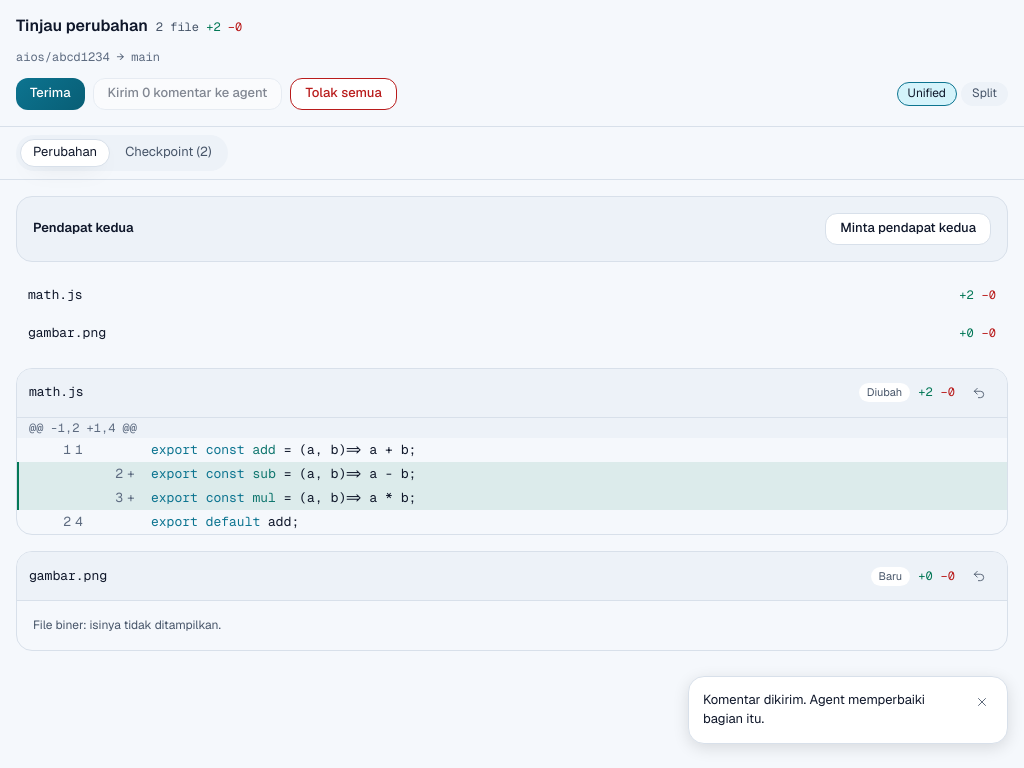
it: Tinjau perubahan: komentar per baris › komentar bisa diubah dan dihapus sebelum dikirim; komentar kosong tidak bisa disimpan
Expected: the heading "Tinjau perubahan" is shown, [16,16,148,37]
Expected: the element "math.js" is shown, [16,368,1008,535]
Click the button "2" at (99, 474), box [75,462,123,486]
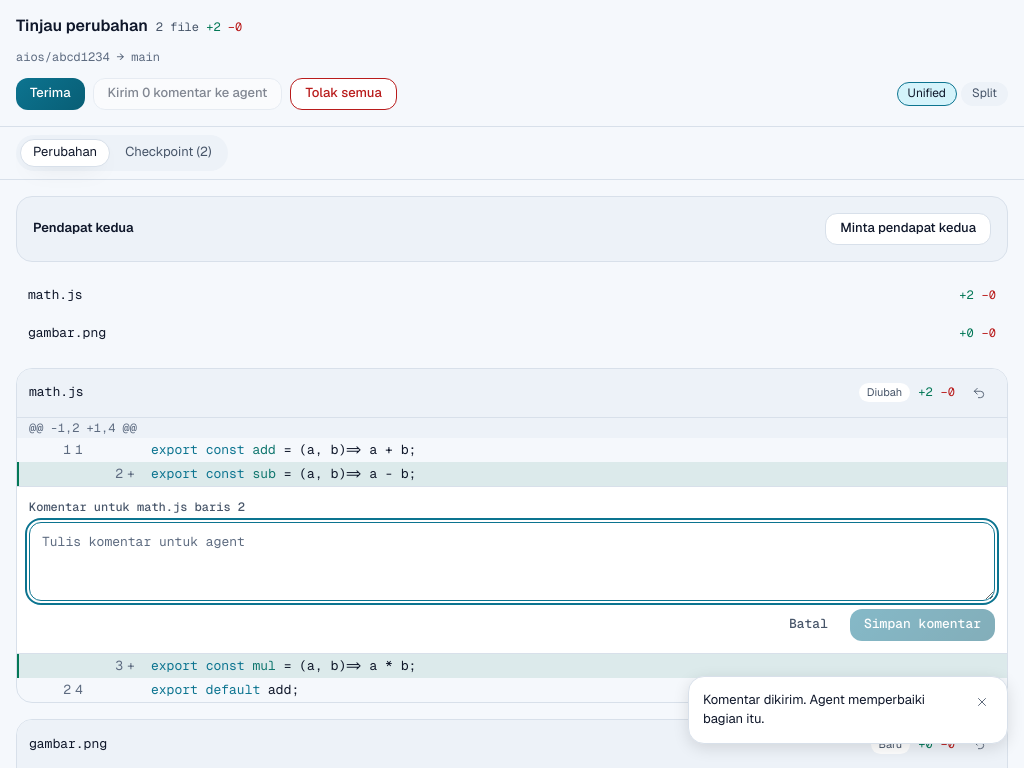
Expected: the button "Simpan komentar" is disabled, [850,609,995,641]
Type "satu" into the text box labelled "Komentar untuk math.js baris 2" at (512, 561), box [29,522,995,601]
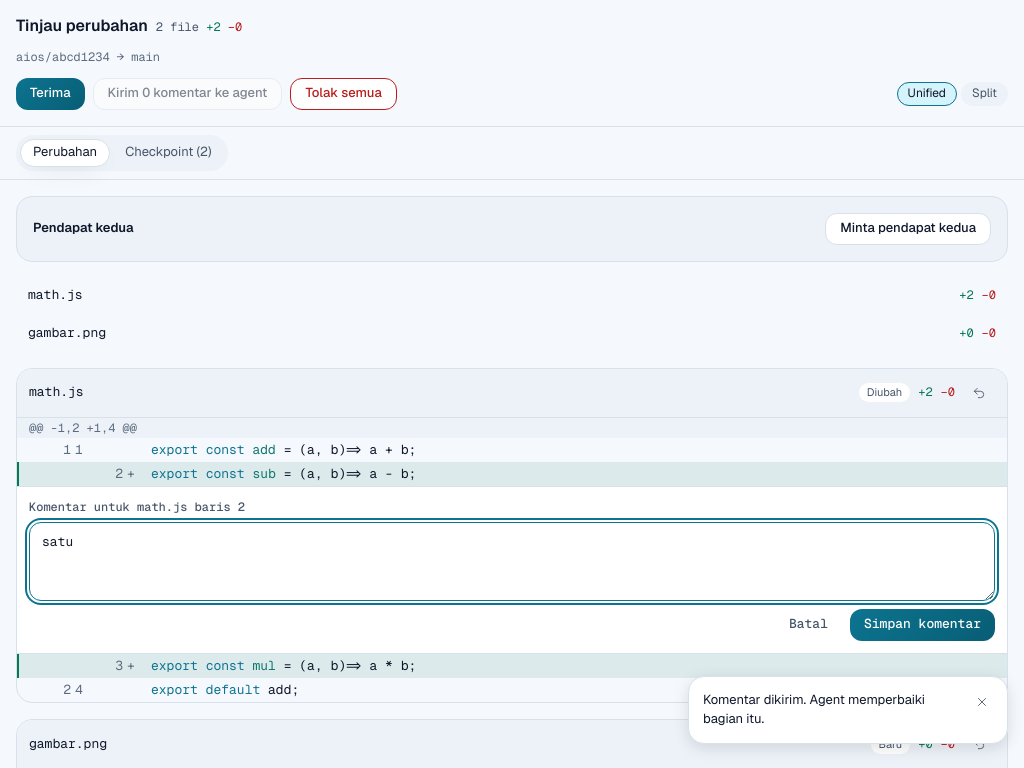
Click the button "Simpan komentar" at (922, 625), box [850,609,995,641]
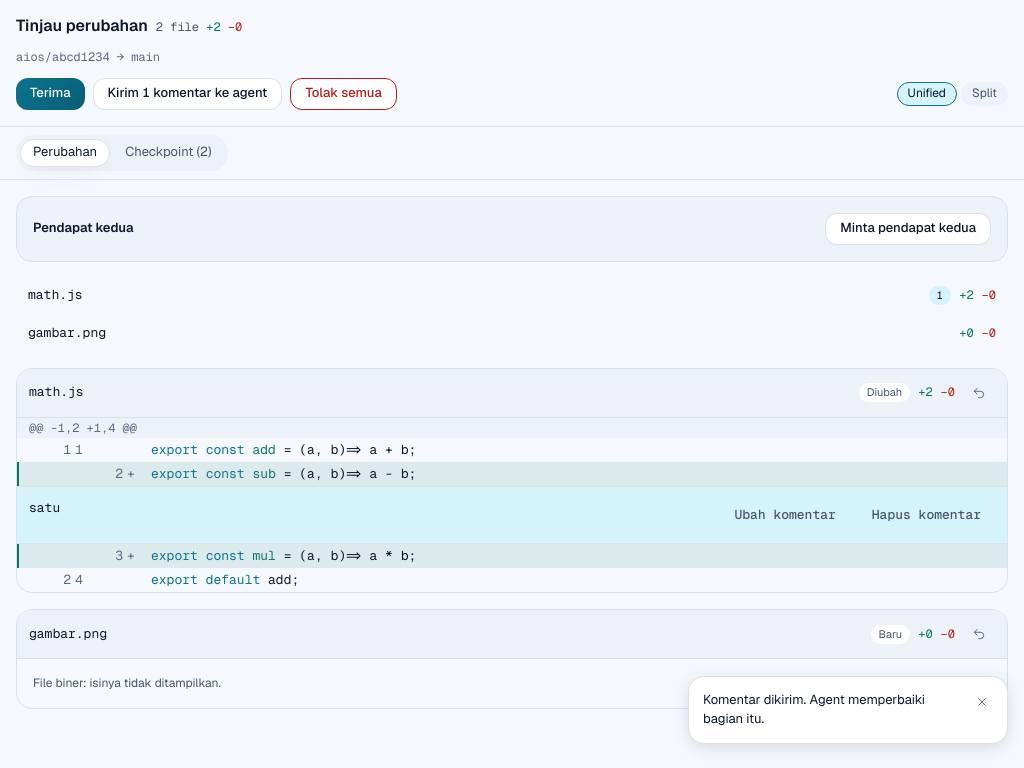
Click the button "Ubah komentar" at (785, 515), box [720,499,850,531]
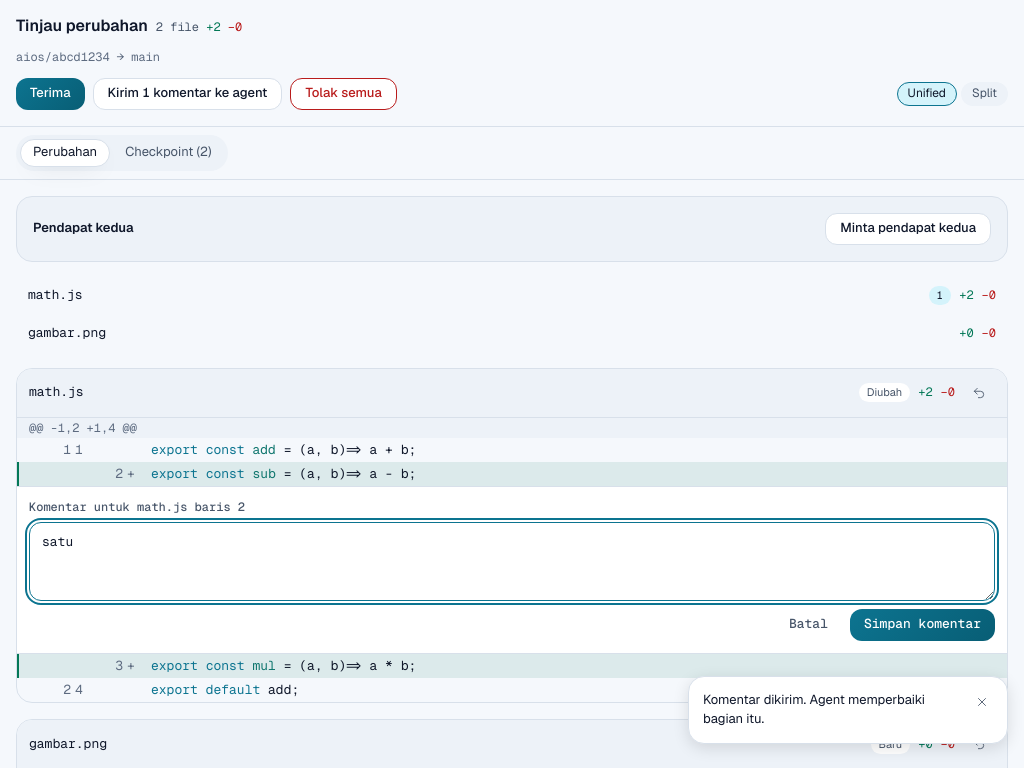
Type " dua" into the text box labelled "Komentar untuk math.js baris 2" at (512, 561), box [29,522,995,601]
Click the button "Simpan komentar" at (922, 625), box [850,609,995,641]
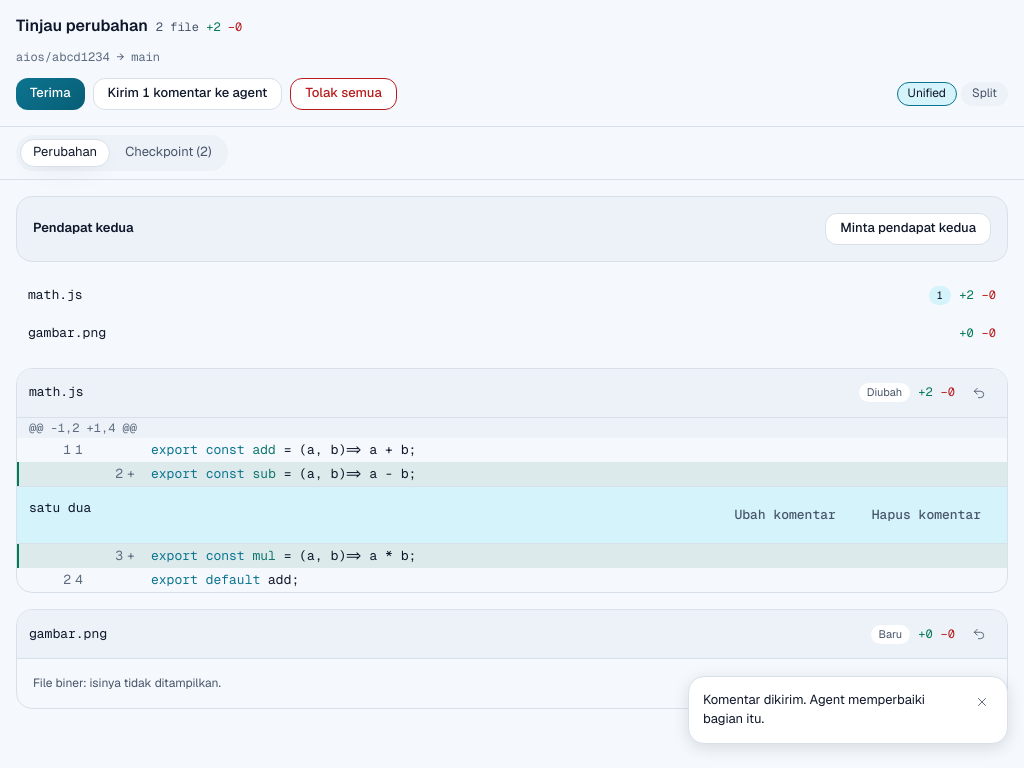
Expected: the text "satu dua" is shown, [29,499,91,516]
Click the button "Hapus komentar" at (926, 515), box [858,499,995,531]
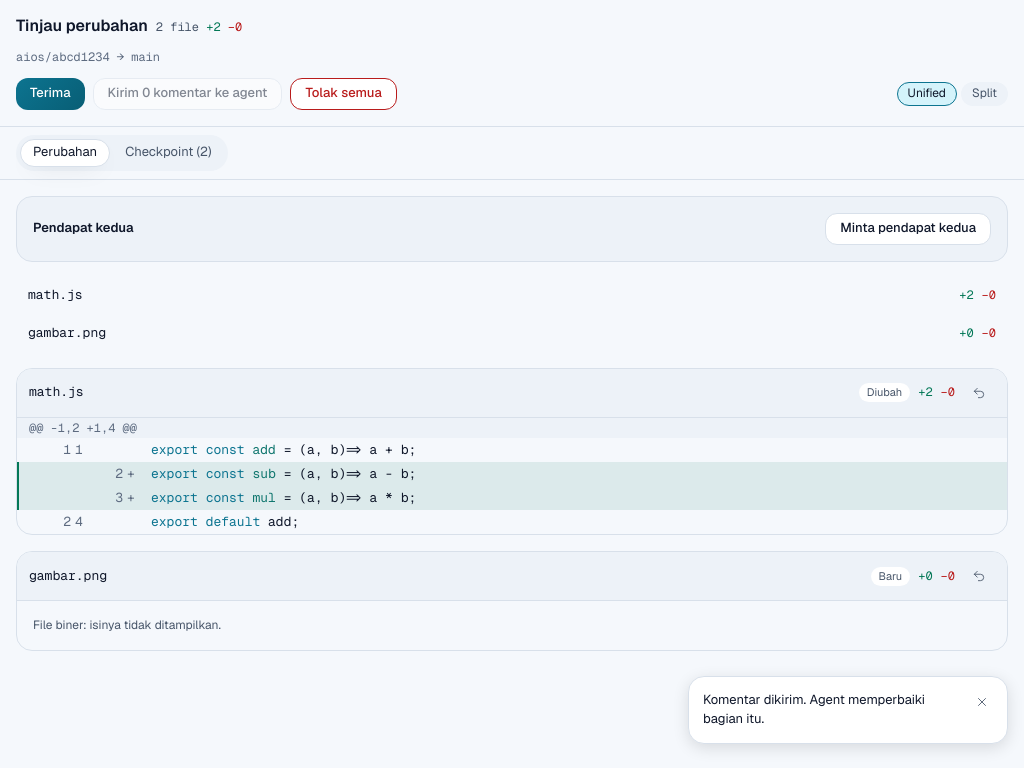
Expected: the text "satu dua" is gone
